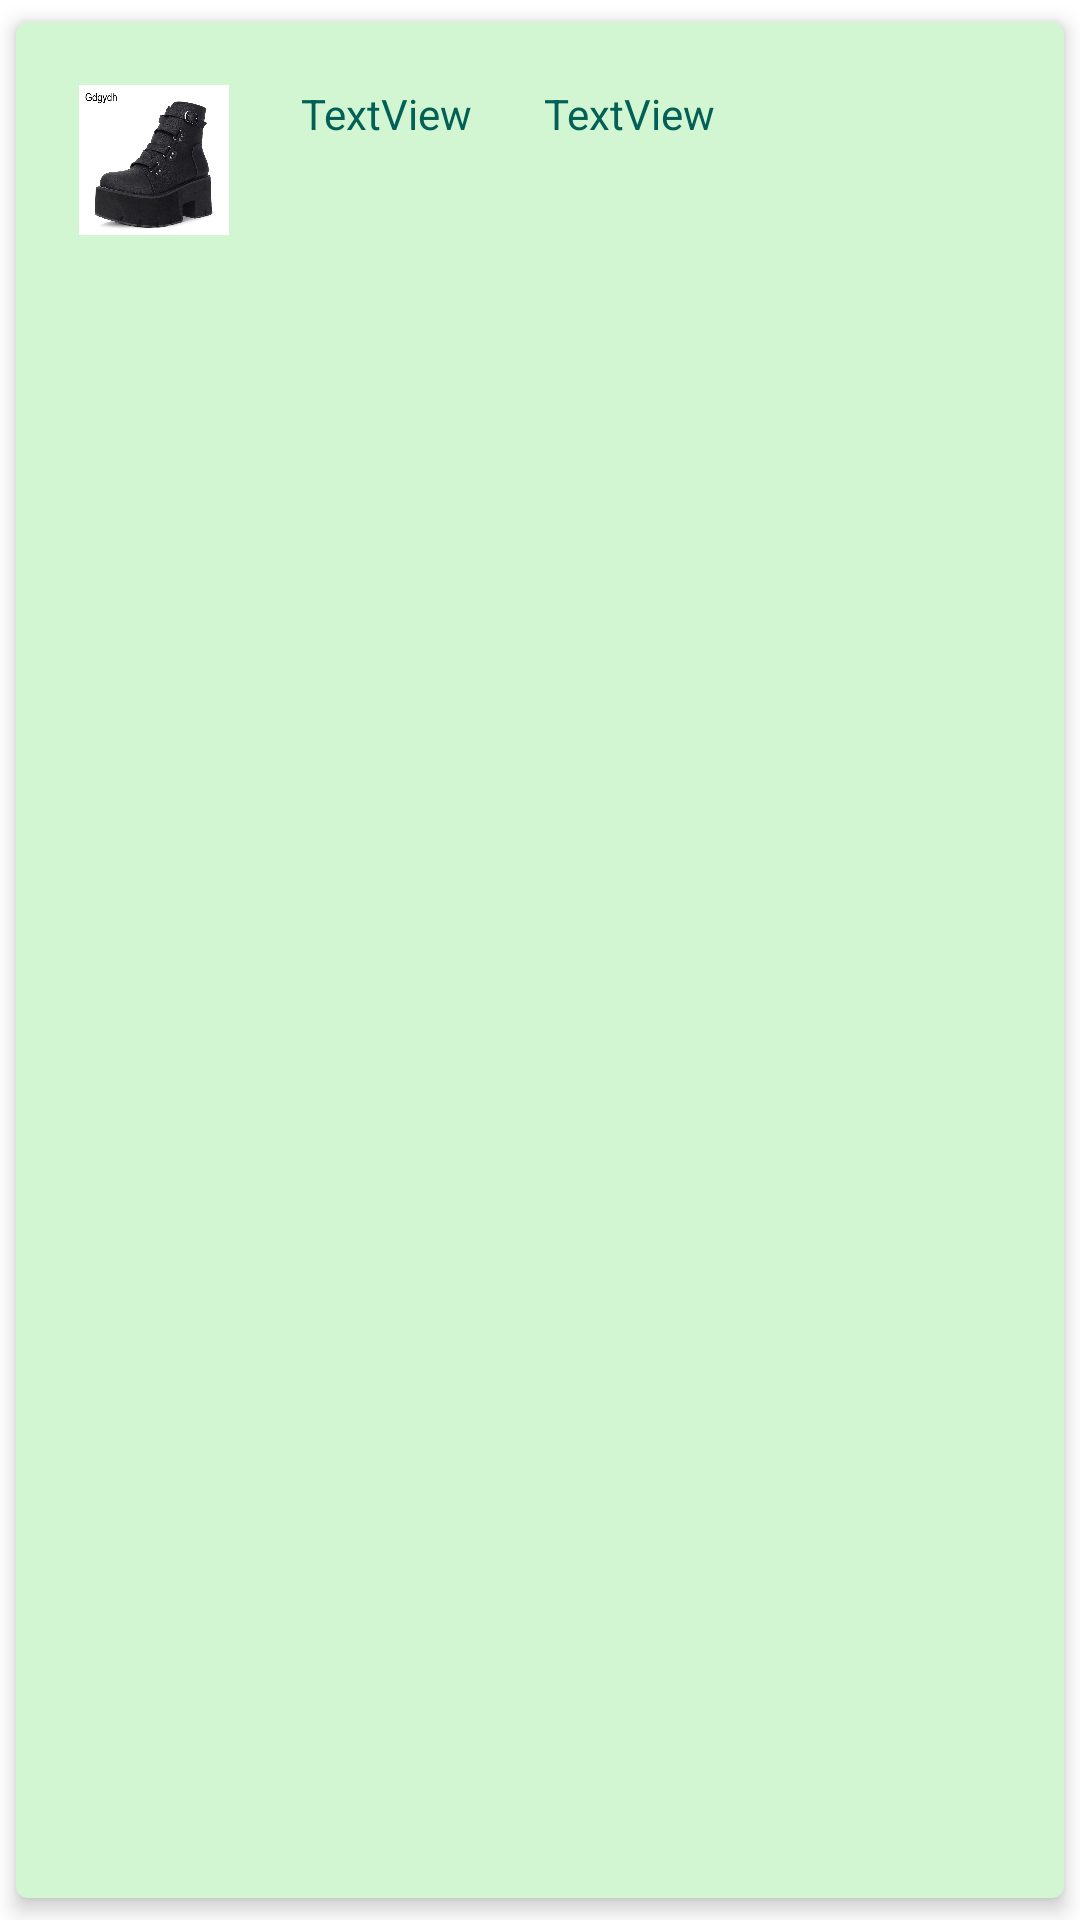

Screen size 1080 × 1920. Icon name, then its center in pixels as (x=x, y=y):
zapatos: (x=154, y=160)
